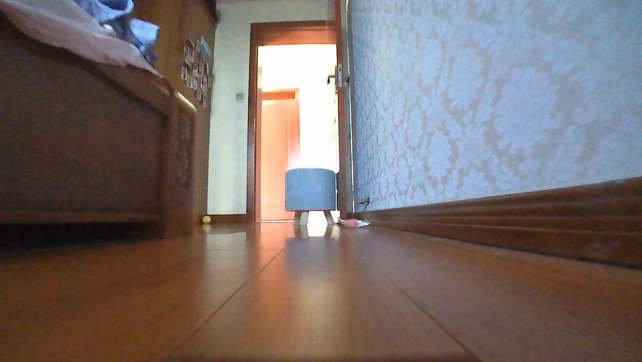bed1: (0, 0, 196, 241)
door_anno: (325, 0, 356, 222)
